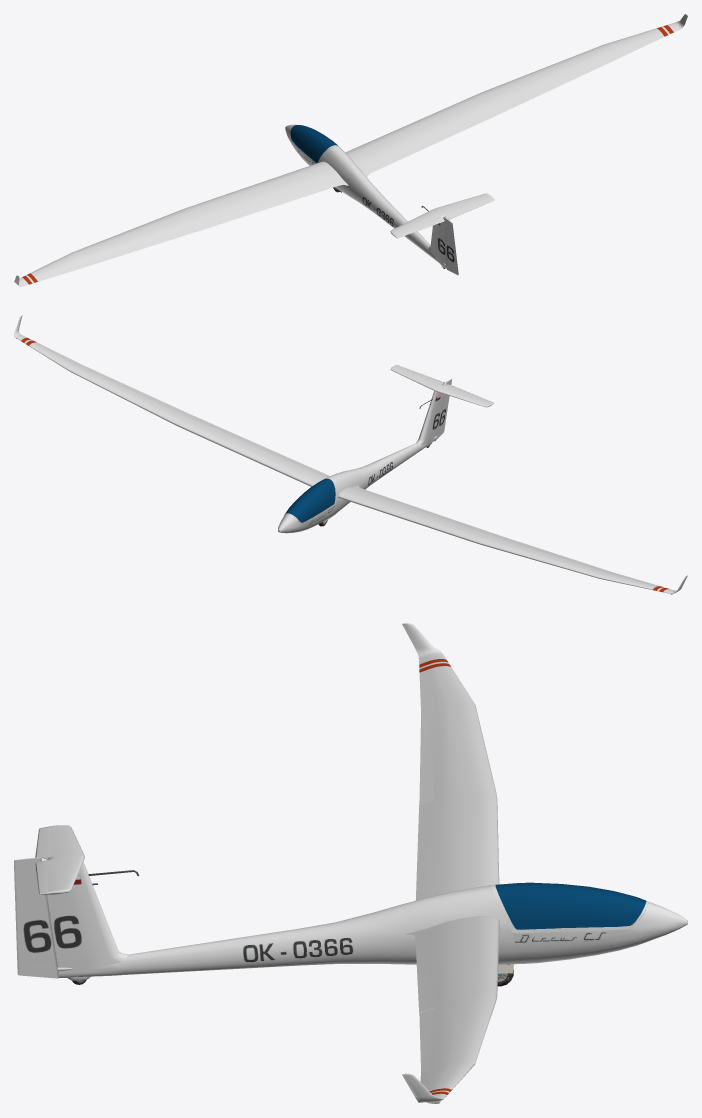
Rendered from Discus_CS_stat.gltf.
The picture shows the model from 3 angles, top to bottom: view 1: azimuth 30°, elevation 25°; view 2: azimuth 150°, elevation 25°; view 3: azimuth 270°, elevation 25°; orthographic projection. The views are drawn at different scales.
Visible parts, largest first — view 1: node11, node4, node6; view 2: node11, node4, node6; view 3: node4, node11, node6.
Boxes of the visible parts, x1,y1,x2,y2 form: node11: (14, 14, 687, 286); node4: (285, 124, 494, 275); node6: (290, 125, 337, 162); node11: (14, 315, 687, 593); node4: (16, 338, 672, 594); node6: (285, 478, 335, 522); node4: (14, 825, 687, 1103); node11: (402, 623, 499, 1102); node6: (495, 882, 646, 929).
Size of the model in its own units: 14.97 by 2.45 by 6.6.
